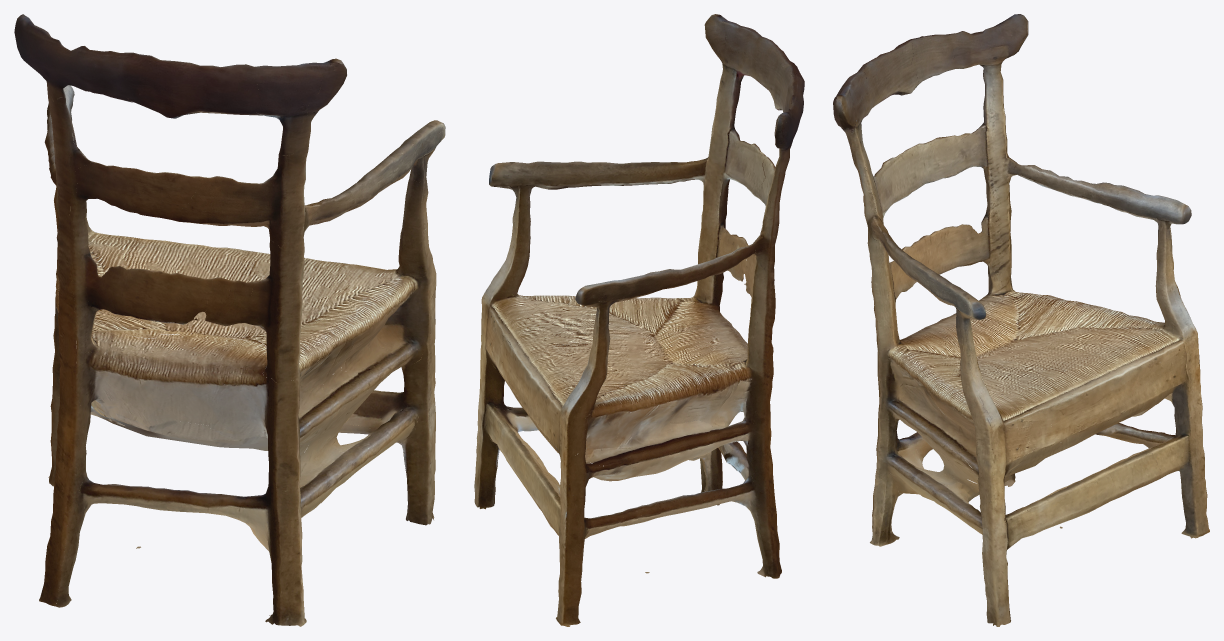
Rendered from chair_old.glb.
The picture shows the model from 3 angles, left to right: view 1: azimuth 30°, elevation 25°; view 2: azimuth 150°, elevation 25°; view 3: azimuth 270°, elevation 25°; orthographic projection. The views are drawn at different scales.
Visible parts, largest first — view 1: Model_material0_0; view 2: Model_material0_0; view 3: Model_material0_0.
Boxes of the visible parts, box(x1,y1,x2,y2) form: Model_material0_0: box(14, 14, 445, 626); Model_material0_0: box(474, 14, 804, 626); Model_material0_0: box(833, 14, 1209, 626).
Bounding box in the file's own units: 8.24 × 11.46 × 8.49.
Materials: 1 (1 with a texture image).
